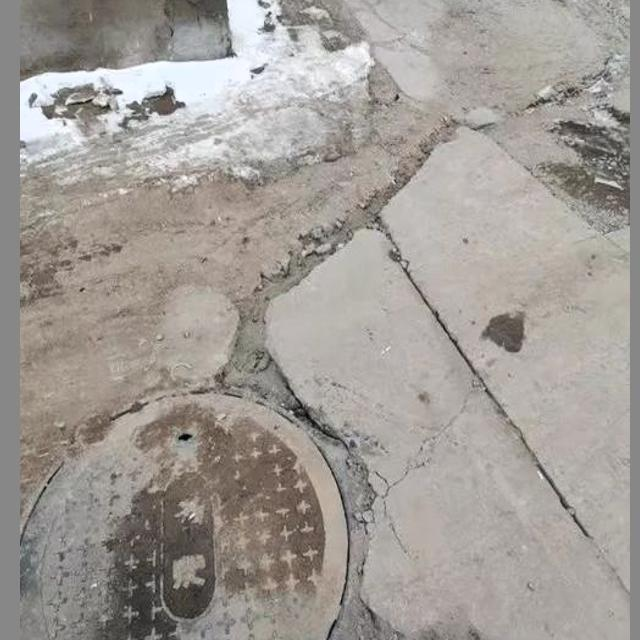circle: (26, 362, 455, 640)
